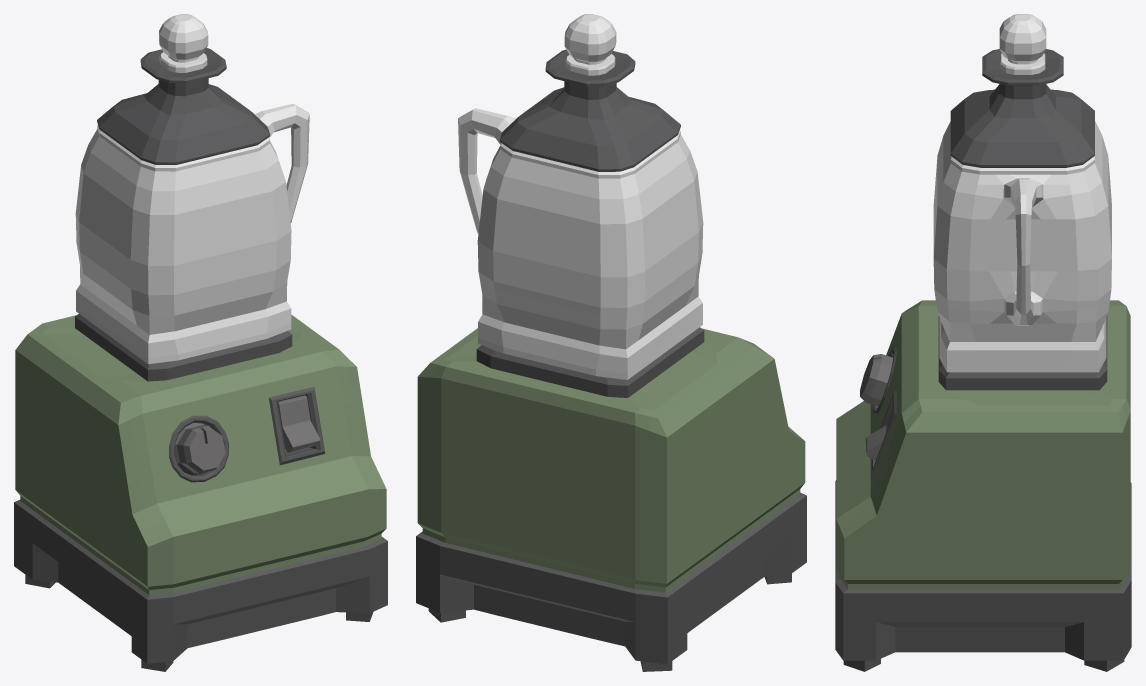
File: blenderWithJug.fbx
3 renders of one model, left to right at view 1: azimuth 30°, elevation 25°; view 2: azimuth 150°, elevation 25°; view 3: azimuth 270°, elevation 25°, orthographic. The views are drawn at different scales.
Visible parts, largest first — view 1: blenderBase, blenderJug, blenderLid, blenderKnob, blenderSwitch; view 2: blenderBase, blenderJug, blenderLid; view 3: blenderBase, blenderJug, blenderLid, blenderKnob, blenderSwitch.
Part boxes in pixels (x1,y1,x2,y2): blenderBase: (14, 314, 387, 671); blenderJug: (75, 103, 309, 364); blenderLid: (97, 14, 270, 164); blenderKnob: (174, 423, 225, 475); blenderSwitch: (277, 395, 320, 452); blenderBase: (416, 327, 806, 671); blenderJug: (458, 108, 703, 379); blenderLid: (500, 14, 680, 171); blenderBase: (835, 300, 1131, 671); blenderJug: (933, 121, 1111, 372); blenderLid: (950, 14, 1094, 167); blenderKnob: (860, 354, 893, 406); blenderSwitch: (865, 407, 892, 460).
Bounding box in the file's own units: 4.38 × 9.6 × 4.33.
